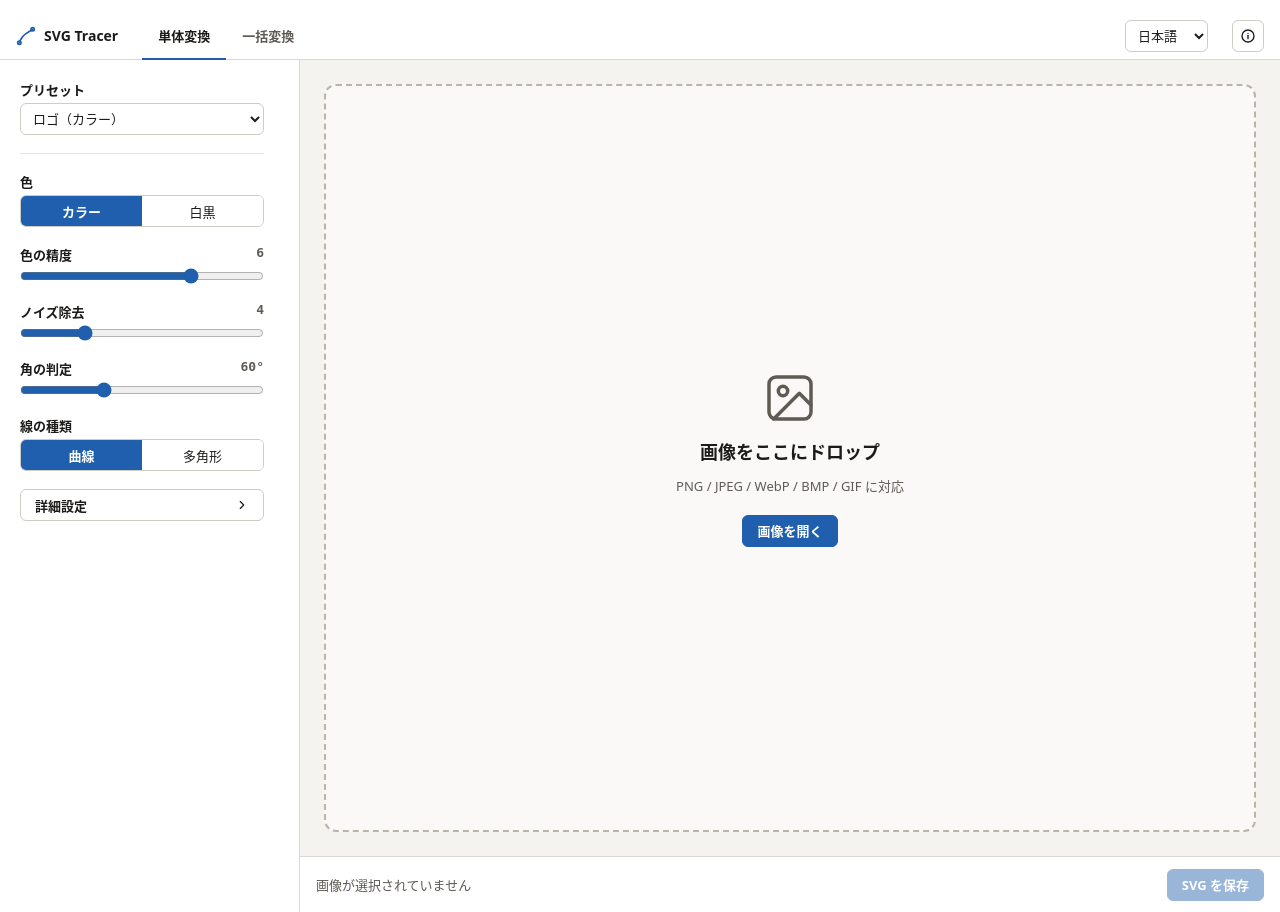
BatchConversionView › selects input and output folders, displays dirLabel and counts, and enables start button
Click the tab "一括変換" at x=268, y=36, box top-left (226, 12), bottom-right (310, 60)
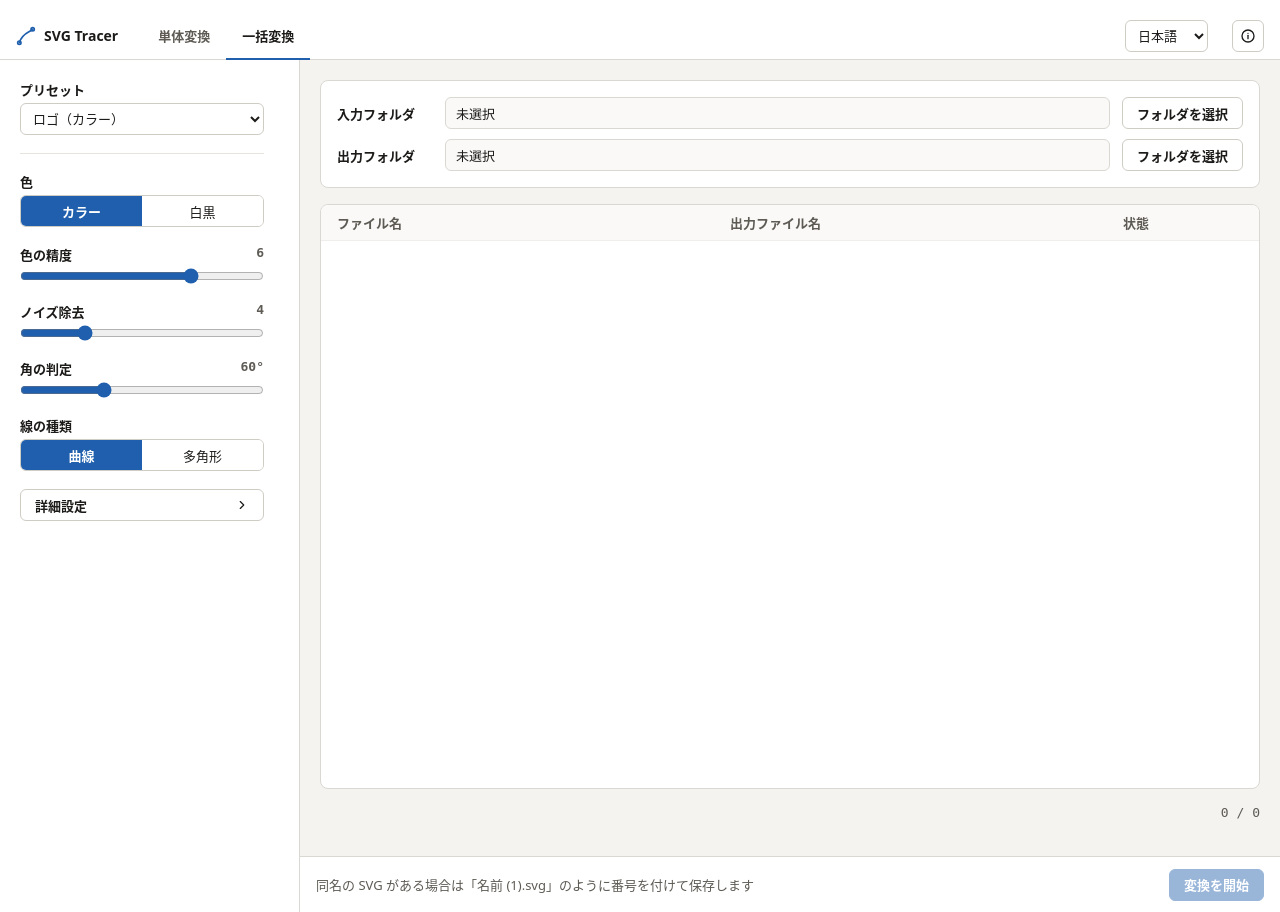
Expected: the button "変換を開始" is disabled, top-left (1169, 868), bottom-right (1264, 900)
Click the button "フォルダを選択" in the row of "入力フォルダ" at x=1182, y=113, box top-left (1122, 97), bottom-right (1243, 129)
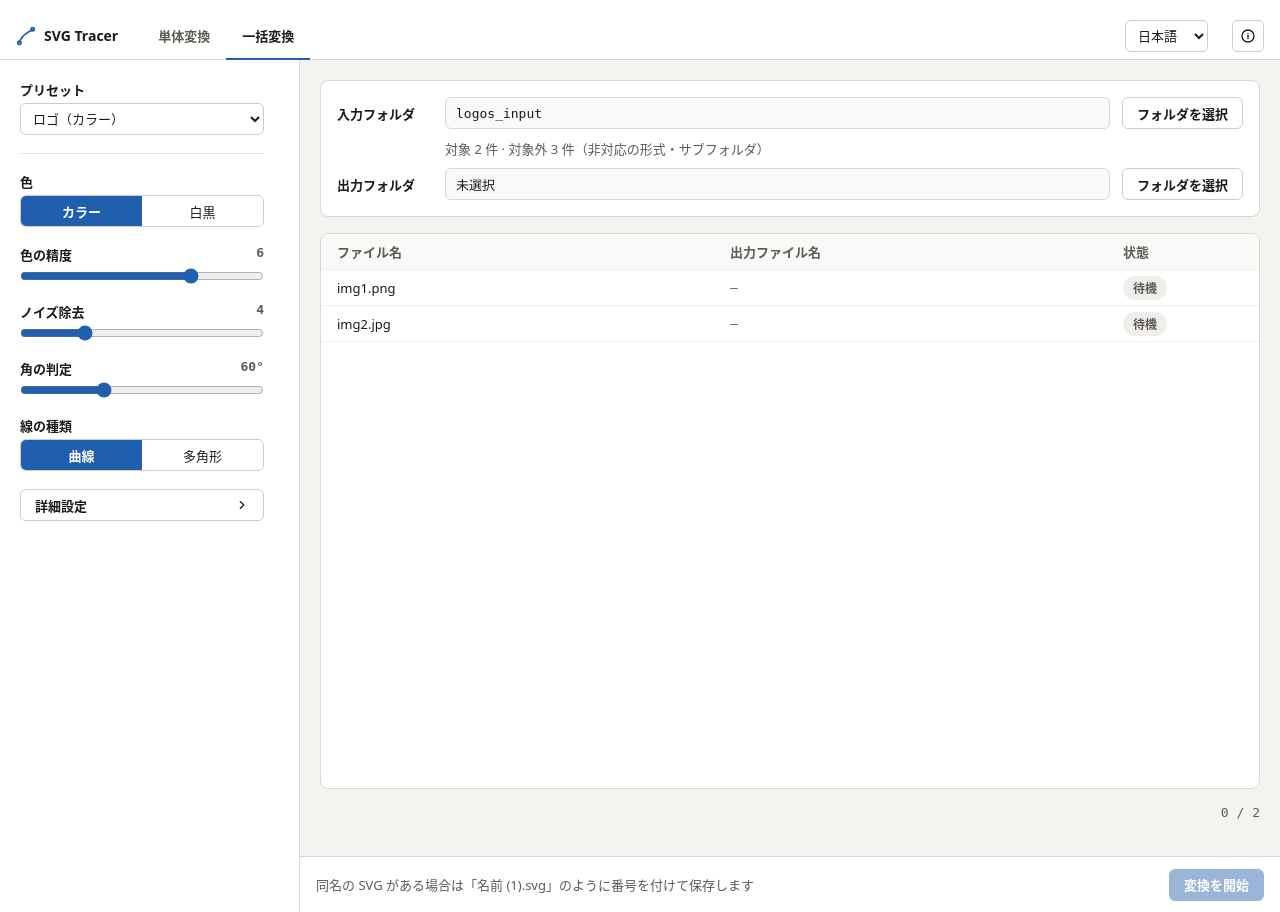
Expected: the text "logos_input" is shown, top-left (445, 97), bottom-right (1110, 129)
Expected: the text "対象 2 件 · 対象外 3 件（非対応の形式・サブフォルダ）" is shown, top-left (445, 140), bottom-right (770, 158)
Expected: the text "img1.png" is shown, top-left (337, 278), bottom-right (396, 296)
Click the button "フォルダを選択" in the row of "未選択" at x=1182, y=184, box top-left (1122, 168), bottom-right (1243, 200)
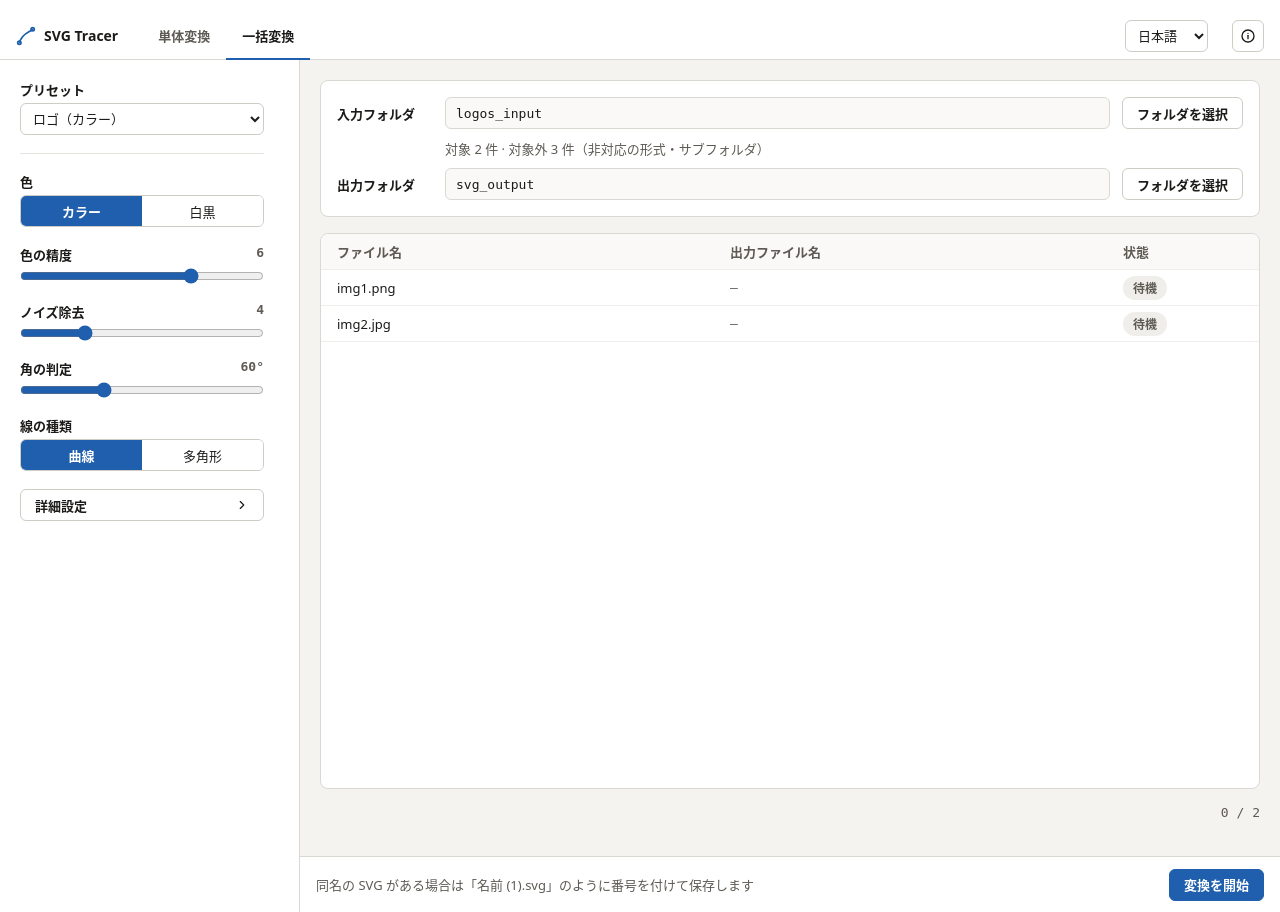
Expected: the text "svg_output" is shown, top-left (445, 168), bottom-right (1110, 200)
Expected: the button "変換を開始" is enabled, top-left (1169, 868), bottom-right (1264, 900)
